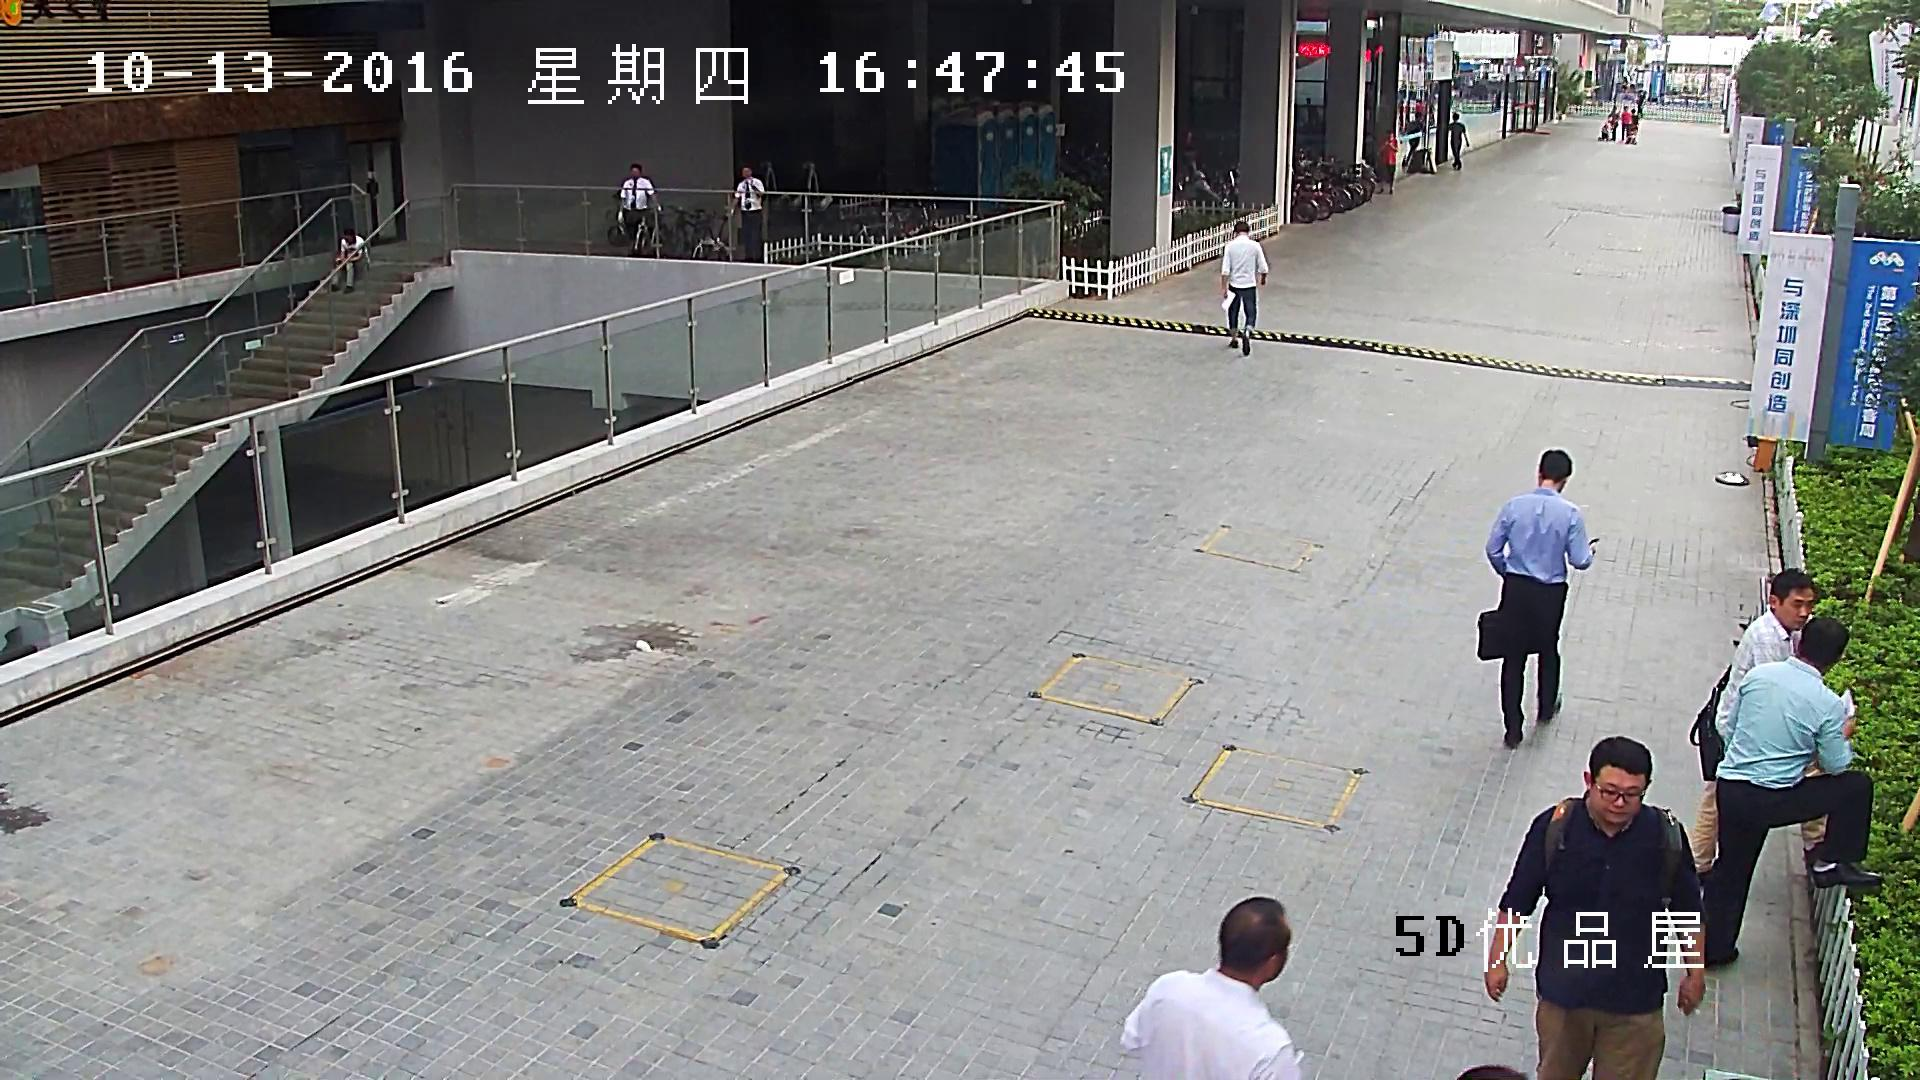person: (1484, 736, 1706, 1080), (1701, 618, 1885, 969), (1690, 570, 1830, 889), (1478, 449, 1597, 746), (1118, 895, 1304, 1080), (1221, 222, 1269, 356), (619, 164, 661, 256), (731, 165, 764, 261), (329, 228, 366, 291), (1448, 112, 1469, 169), (1378, 129, 1397, 194), (1403, 112, 1422, 164), (1625, 109, 1638, 144), (1608, 105, 1619, 142), (1621, 107, 1631, 141), (1596, 123, 1609, 142), (1636, 89, 1646, 116)
